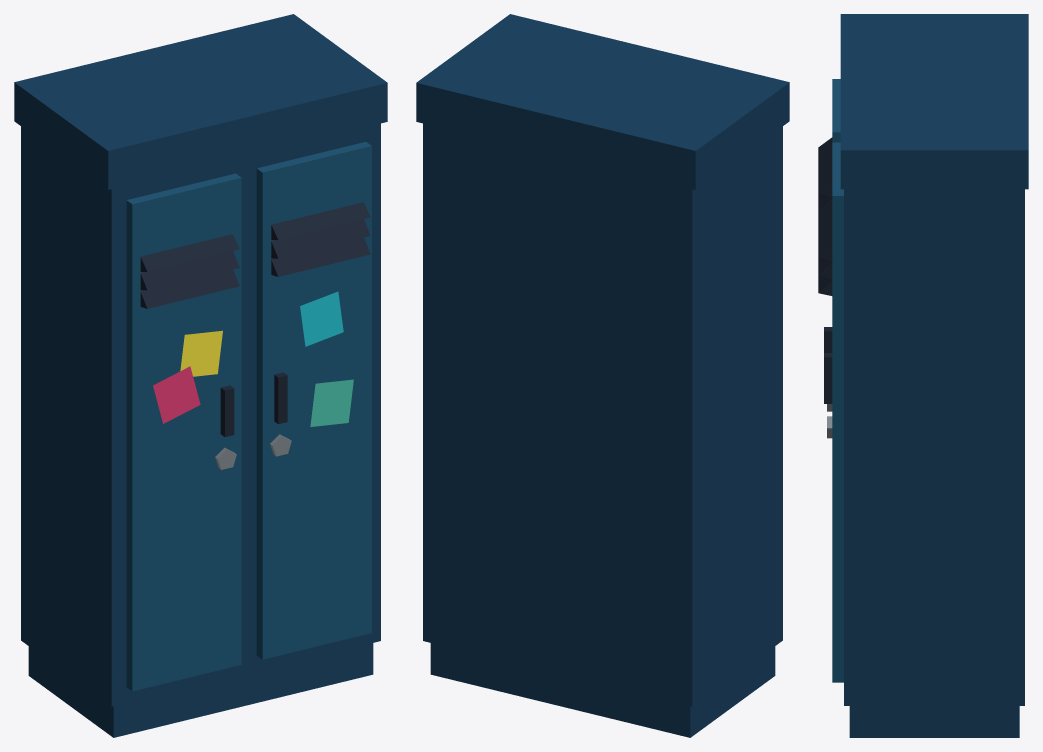
File: tuhocsinh.001.fbx
3 views of the same model, side by side, from view 1: azimuth 30°, elevation 25°; view 2: azimuth 150°, elevation 25°; view 3: azimuth 270°, elevation 25° (orthographic).
Visible parts, largest first — view 1: tuhocsinh.001; view 2: tuhocsinh.001; view 3: tuhocsinh.001.
Boxes of the visible parts, x1,y1,x2,y2 form: tuhocsinh.001: (14,14,387,737); tuhocsinh.001: (416,14,789,737); tuhocsinh.001: (818,14,1028,737).
Size of the model in its own units: 186 by 376 by 121.
